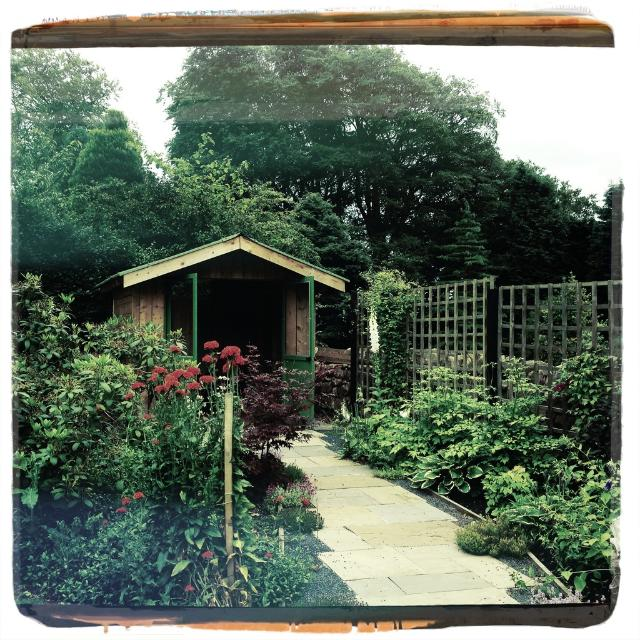Flower: (121, 337, 245, 419), (264, 476, 318, 512), (111, 494, 142, 518), (188, 380, 202, 392), (202, 548, 215, 560), (182, 582, 194, 592)
